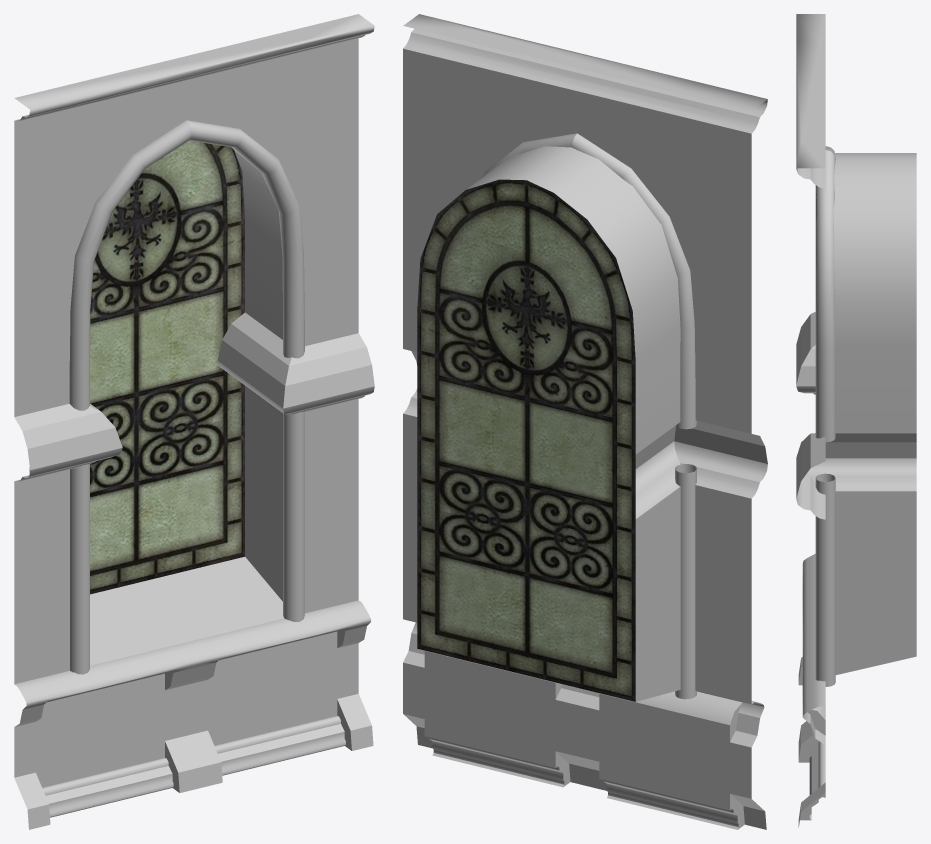
Rendered from window_large_yellow.dae.
The picture shows the model from 3 angles, left to right: view 1: azimuth 30°, elevation 25°; view 2: azimuth 150°, elevation 25°; view 3: azimuth 270°, elevation 25°; orthographic projection. The views are drawn at different scales.
Visible parts, largest first — view 1: polySurface145, polySurface134, polySurface158, polySurface159, polySurface140, polySurface141, polySurface139, polySurface143, polySurface142, polySurface149; view 2: polySurface134, polySurface145, polySurface158, polySurface159, polySurface139, polySurface140, polySurface141, polySurface142, polySurface147; view 3: polySurface139, polySurface140, polySurface145, polySurface158, polySurface141, polySurface143, polySurface150, polySurface149, polySurface148.
Boxes of the visible parts, box(x1,y1,x2,y2) form: polySurface145: box(14, 14, 374, 470); polySurface134: box(90, 140, 244, 594); polySurface158: box(14, 386, 374, 829); polySurface159: box(14, 631, 358, 787); polySurface140: box(29, 385, 284, 665); polySurface141: box(69, 120, 304, 410); polySurface139: box(234, 150, 282, 339); polySurface143: box(283, 412, 304, 621); polySurface142: box(70, 464, 89, 674); polySurface149: box(217, 312, 291, 408); polySurface134: box(417, 179, 635, 701); polySurface145: box(403, 14, 767, 463); polySurface158: box(403, 389, 767, 829); polySurface159: box(403, 651, 751, 810); polySurface139: box(466, 146, 680, 454); polySurface140: box(635, 487, 680, 701); polySurface141: box(482, 133, 696, 429); polySurface142: box(675, 464, 696, 699); polySurface147: box(635, 441, 680, 518); polySurface139: box(833, 153, 916, 432); polySurface140: box(835, 491, 916, 675); polySurface145: box(796, 14, 825, 497); polySurface158: box(796, 473, 825, 827); polySurface141: box(815, 146, 835, 442); polySurface143: box(815, 473, 835, 686); polySurface150: box(807, 458, 916, 491); polySurface149: box(825, 432, 916, 458); polySurface148: box(796, 345, 815, 386).
Size of what is drawn, in the model's own units: 400 by 800 by 132.
